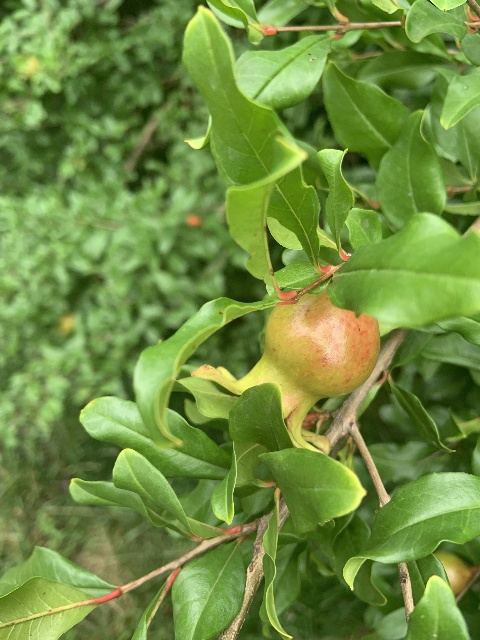mid-growth: (190, 283, 380, 454)
